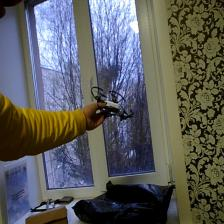drone: (88, 80, 137, 128)
